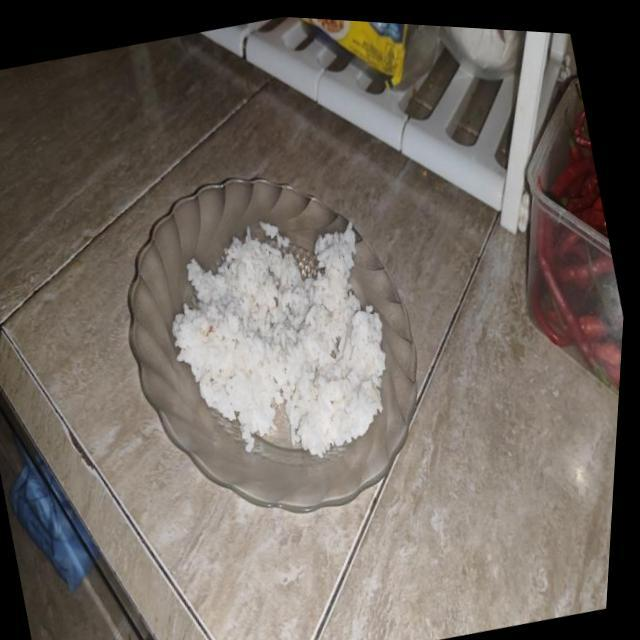nasi_putih: (172, 223, 386, 457)
